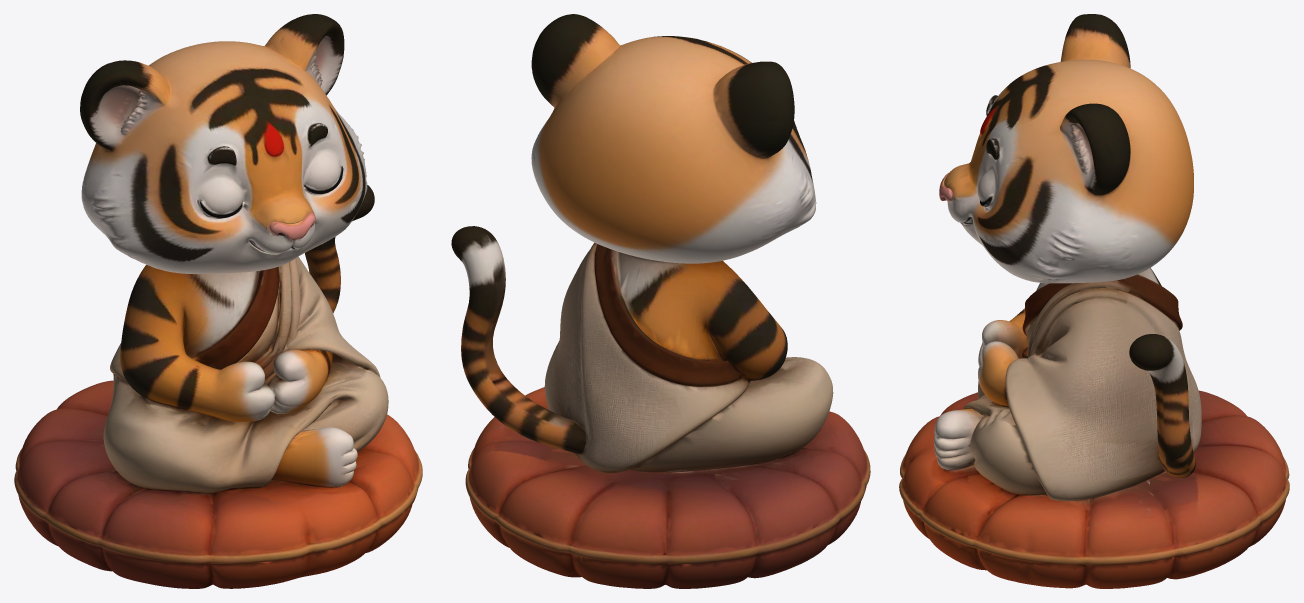
The model's file is tiger-meditate-closed.glb.
3 renders of one model, left to right at view 1: azimuth 30°, elevation 25°; view 2: azimuth 150°, elevation 25°; view 3: azimuth 270°, elevation 25°, orthographic. The views are drawn at different scales.
Parts seen in each view (by area): view 1: node_0; view 2: node_0; view 3: node_0.
Boxes of the visible parts, x1,y1,x2,y2 form: node_0: [14, 14, 422, 588]; node_0: [451, 14, 870, 588]; node_0: [899, 14, 1289, 588].
Size of the model in its own units: 0.7853 by 1 by 0.7704.
1 material, 1 textured.
